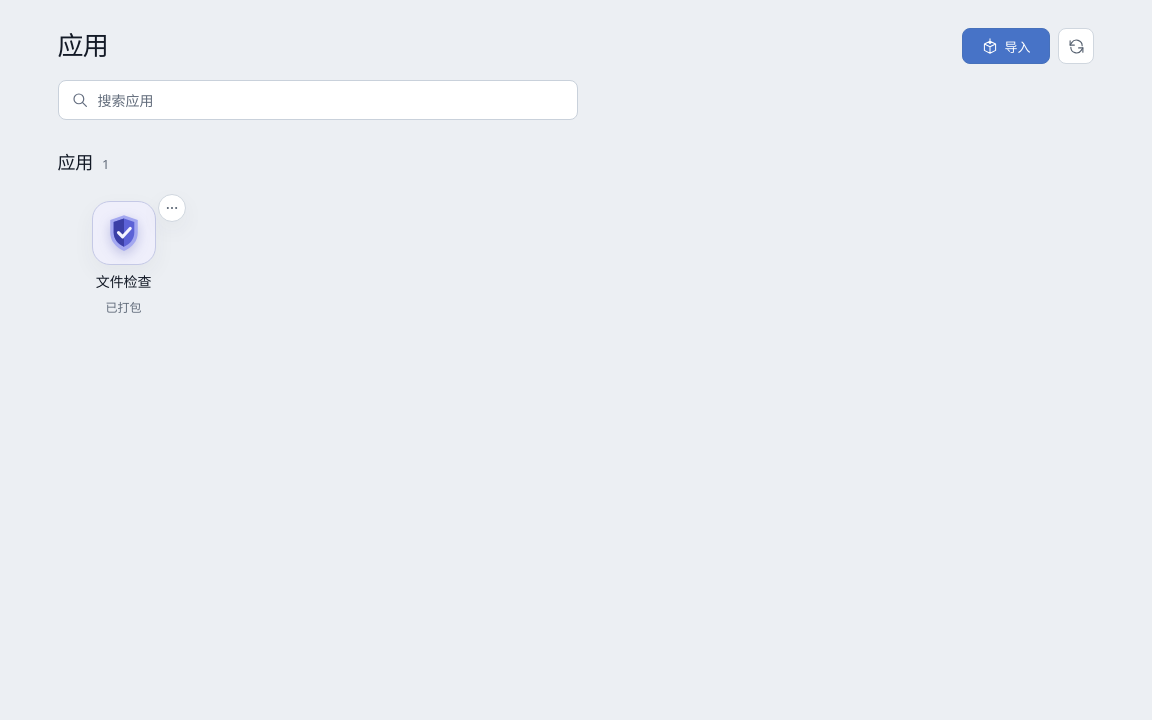
Test case: 个人应用 › 安装回执失败保留应用并提示未确认，不自动重做安装
The image size is (1152, 720).
Click the button with aria-label "文件检查，安装": click(124, 259) [58,190,190,328]
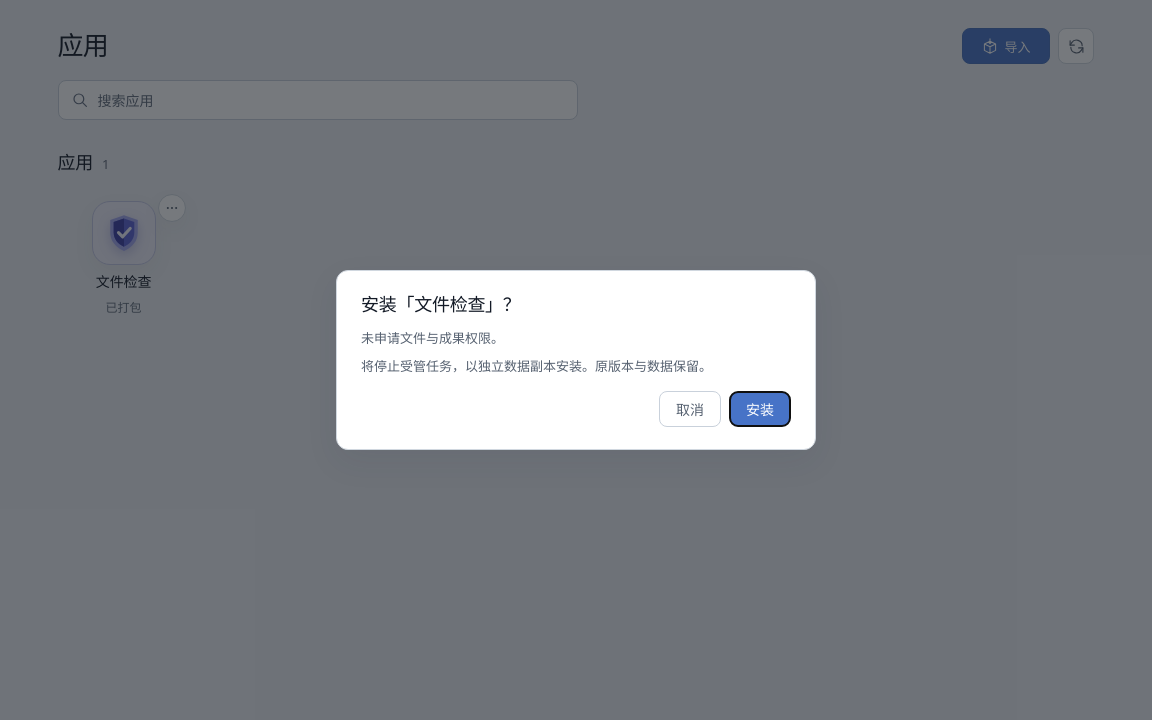
Click the button "安装": click(760, 409) [729,391,791,427]
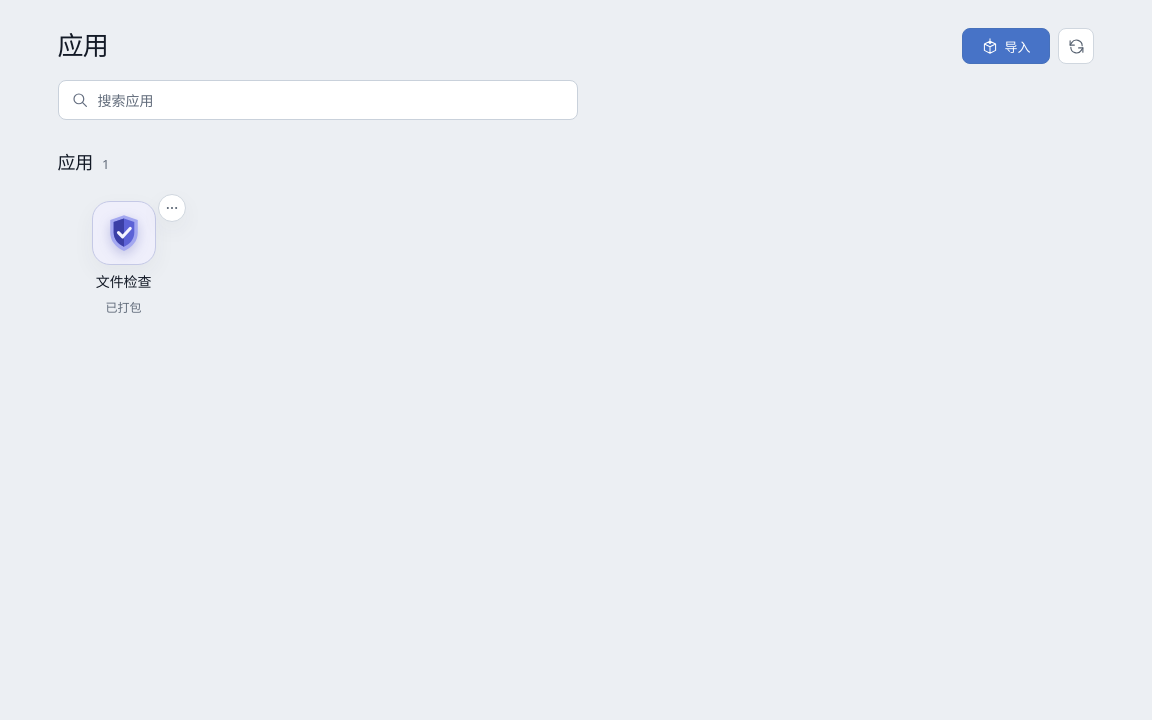
Expected: the button with aria-label "文件检查，安装" is shown, [58,190,190,328]
Expected: the dialog is gone
